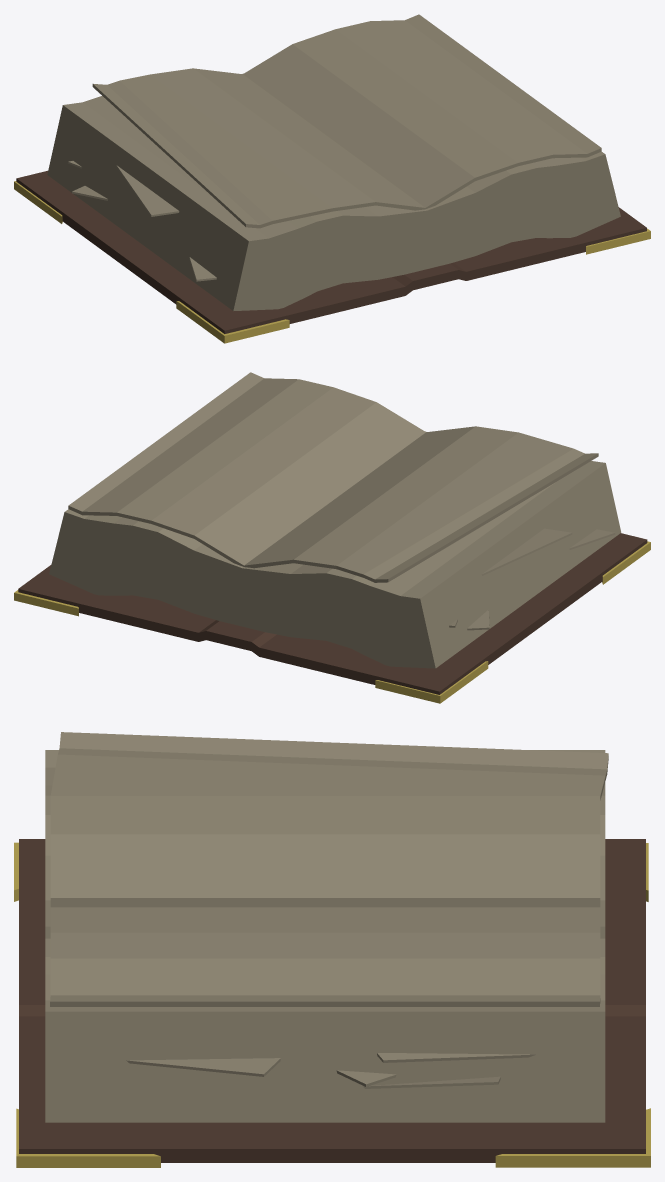
The model's file is Book3_Open.glb.
The picture shows the model from 3 angles, top to bottom: view 1: azimuth 30°, elevation 25°; view 2: azimuth 150°, elevation 25°; view 3: azimuth 270°, elevation 25°; orthographic projection. The views are drawn at different scales.
Parts seen in each view (by area): view 1: Book3_Open_Cube.118; view 2: Book3_Open_Cube.118; view 3: Book3_Open_Cube.118.
Part boxes in pixels (x1,y1,x2,y2): Book3_Open_Cube.118: [14, 14, 650, 343]; Book3_Open_Cube.118: [14, 372, 650, 703]; Book3_Open_Cube.118: [14, 732, 650, 1167].
Bounding box in the file's own units: 0.8766 × 0.1945 × 0.7521.
